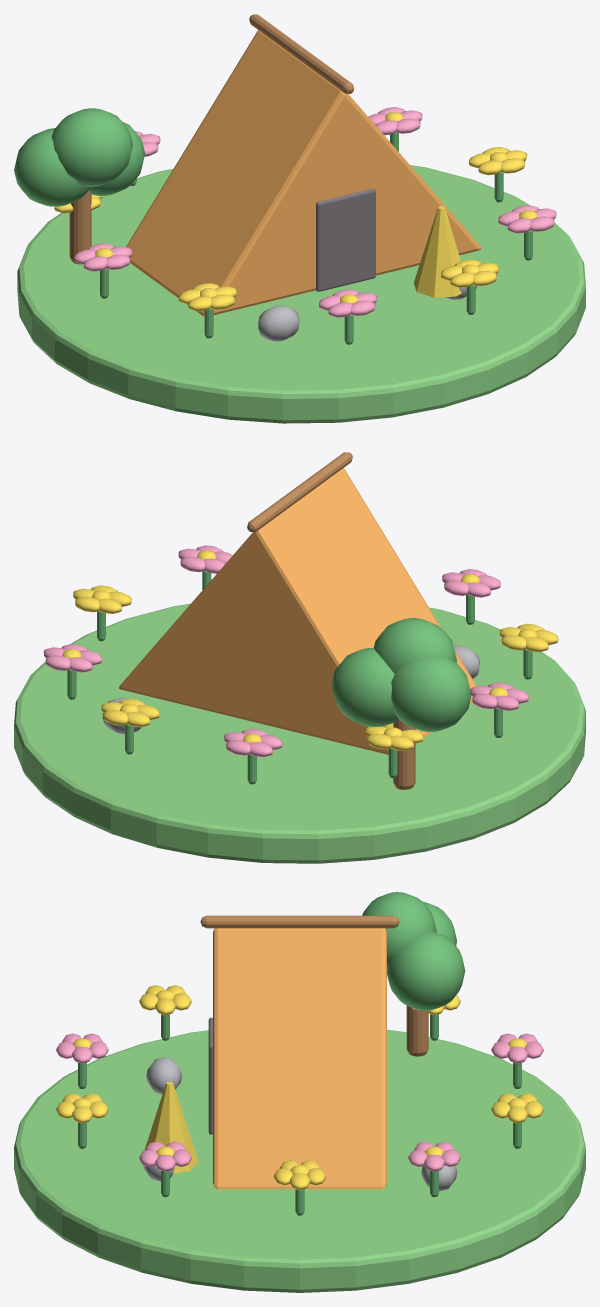
File: region_camp.glb
3 views of the same model, one above another, from view 1: azimuth 30°, elevation 25°; view 2: azimuth 150°, elevation 25°; view 3: azimuth 270°, elevation 25° (orthographic).
Parts seen in each view (by area): view 1: round grassy plot, orange camping tent, tent entrance, rounded foliage, rounded foliage.001, Cone, tent ridge, tree trunk, fire pit stone.001, rounded foliage.002; view 2: round grassy plot, orange camping tent, rounded foliage.001, rounded foliage.002, rounded foliage, tent ridge, tree trunk; view 3: round grassy plot, orange camping tent, rounded foliage.002, tent ridge, rounded foliage, Cone, tree trunk, fire pit stone.001, tent entrance, rounded foliage.001.
Boxes of the visible parts, box(x1,y1,x2,y2) form: round grassy plot: box(17, 165, 585, 423); orange camping tent: box(126, 30, 481, 316); tent entrance: box(316, 188, 375, 291); rounded foliage: box(51, 108, 132, 187); rounded foliage.001: box(14, 128, 90, 206); Cone: box(414, 206, 461, 297); tent ridge: box(249, 14, 354, 93); tree trunk: box(69, 190, 91, 264); fire pit stone.001: box(258, 305, 299, 341); rounded foliage.002: box(89, 121, 145, 195); round grassy plot: box(14, 603, 585, 863); orange camping tent: box(119, 468, 476, 754); rounded foliage.001: box(391, 657, 471, 731); rounded foliage.002: box(331, 648, 399, 727); rounded foliage: box(373, 618, 456, 673); tent ridge: box(247, 452, 352, 532); tree trunk: box(393, 719, 415, 789); round grassy plot: box(14, 1029, 585, 1292); orange camping tent: box(213, 928, 386, 1189); rounded foliage.002: box(387, 931, 465, 1010); tent ridge: box(200, 915, 399, 928); rounded foliage: box(362, 892, 436, 966); Cone: box(141, 1082, 198, 1173); tree trunk: box(406, 1006, 428, 1056); fire pit stone.001: box(146, 1057, 182, 1094); tent entrance: box(208, 1017, 212, 1134); rounded foliage.001: box(423, 901, 456, 945).
Bounding box in the file's own units: 3.16 × 1.58 × 3.16.
